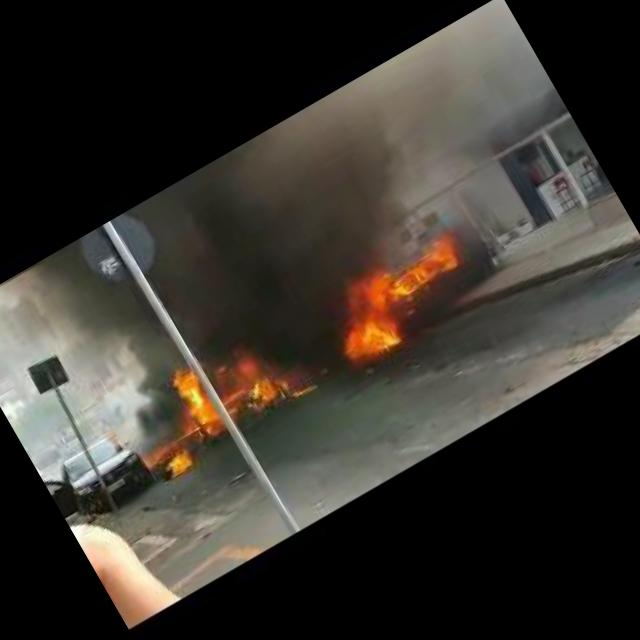fire: (318, 230, 478, 367), (165, 365, 224, 442), (238, 367, 288, 413), (162, 447, 198, 480), (290, 379, 318, 400)
smoke: (1, 50, 502, 445)
